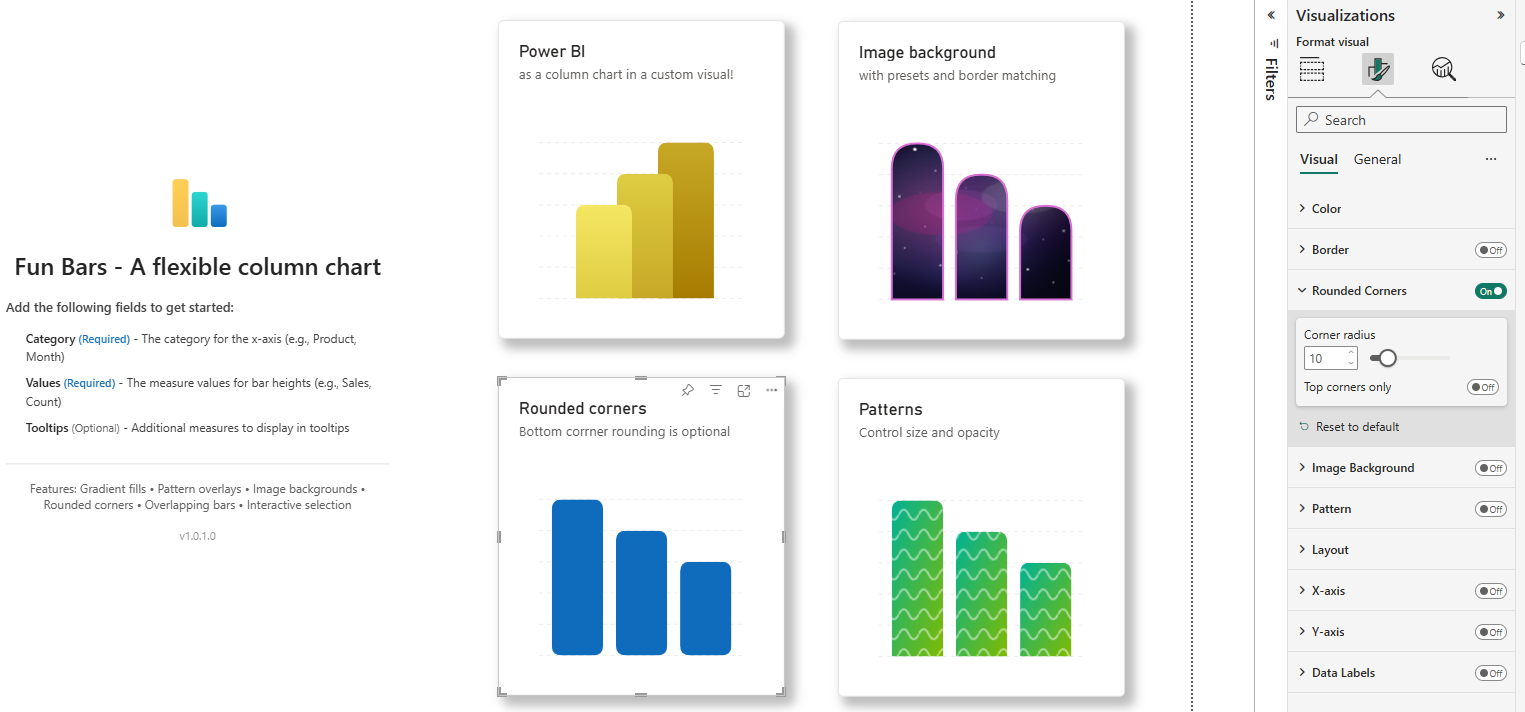

What the dashboard file says about the page in this screenshot:
{"tool":"powerbi","page":{"name":"Bars","canvas":[1920,1080],"ordinal":1},"visuals":[{"type":"funbarsA713EE8ACAB944D5A6B8EEF6314C02EF","fields":{"category":["Stream chart.Month"],"measure":["Sum(Stream chart.Value)"]},"box":[32.4,49.7,882.2,445.4],"z":0},{"type":"funbarsA713EE8ACAB944D5A6B8EEF6314C02EF","fields":{"category":["Stream chart.Month"],"measure":["Sum(Stream chart.Value)"]},"box":[960,49.7,899.5,445.4],"z":1000},{"type":"funbarsA713EE8ACAB944D5A6B8EEF6314C02EF","fields":{"category":["Stream chart.Month"],"measure":["Stream chart.Total stream value"]},"box":[960,540.5,899.5,445.4],"z":2000},{"type":"funbarsA713EE8ACAB944D5A6B8EEF6314C02EF","fields":{"category":["Stream chart.Month"],"measure":["Stream chart.Total stream value"]},"box":[270.3,540.5,495.1,445.4],"z":3000}]}

Visuals, with their boxes on the page's 1920x1080 design canvas (x1, y1, x2, y2). These are canvas units, not pixel positions in the 1525x712 screenshot, which may show the page scaled, cropped or inside an application window:
funbarsA713EE8ACAB944D5A6B8EEF6314C02EF - Stream chart.Month x Sum(Stream chart.Value): 32/50/915/495
funbarsA713EE8ACAB944D5A6B8EEF6314C02EF - Stream chart.Month x Sum(Stream chart.Value): 960/50/1860/495
funbarsA713EE8ACAB944D5A6B8EEF6314C02EF - Stream chart.Month x Stream chart.Total stream value: 960/540/1860/986
funbarsA713EE8ACAB944D5A6B8EEF6314C02EF - Stream chart.Month x Stream chart.Total stream value: 270/540/765/986
